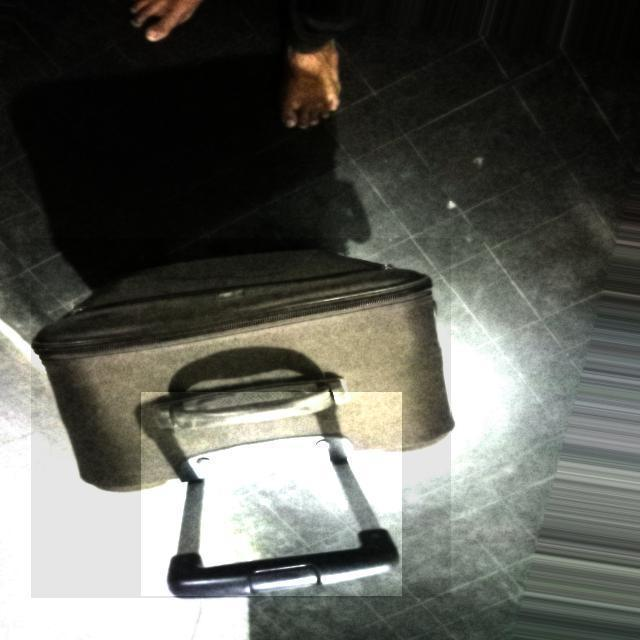Suitcase: (29, 232, 456, 597)
